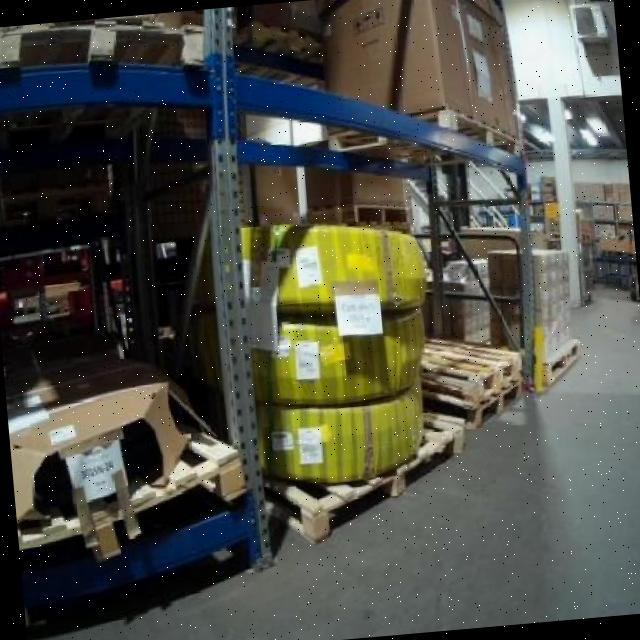pallet: (16, 416, 259, 602), (259, 404, 480, 558), (405, 324, 531, 438), (392, 97, 532, 164), (536, 323, 586, 402)
